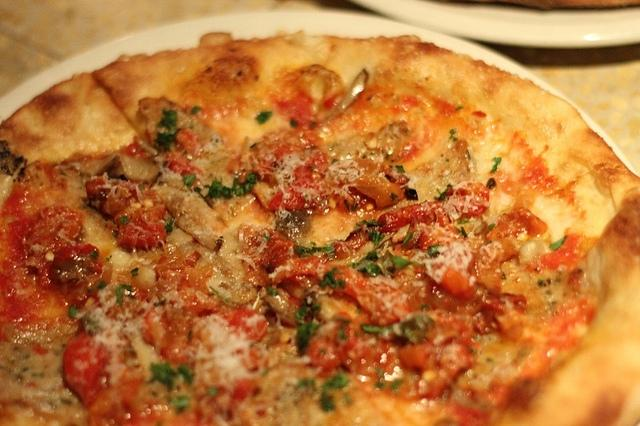tomato: (19, 205, 82, 288), (62, 329, 111, 408), (258, 233, 330, 285), (86, 379, 144, 426), (85, 176, 140, 217), (376, 200, 445, 232), (118, 206, 166, 250), (54, 244, 103, 287), (304, 330, 342, 378), (540, 232, 586, 270), (274, 129, 324, 161), (354, 182, 406, 210), (228, 310, 268, 342), (332, 228, 370, 260), (268, 184, 314, 210), (173, 128, 210, 158), (164, 151, 203, 175), (399, 341, 429, 371), (441, 267, 469, 294), (466, 186, 489, 216), (449, 318, 472, 344), (334, 282, 357, 298), (232, 384, 248, 402), (124, 144, 143, 156)
